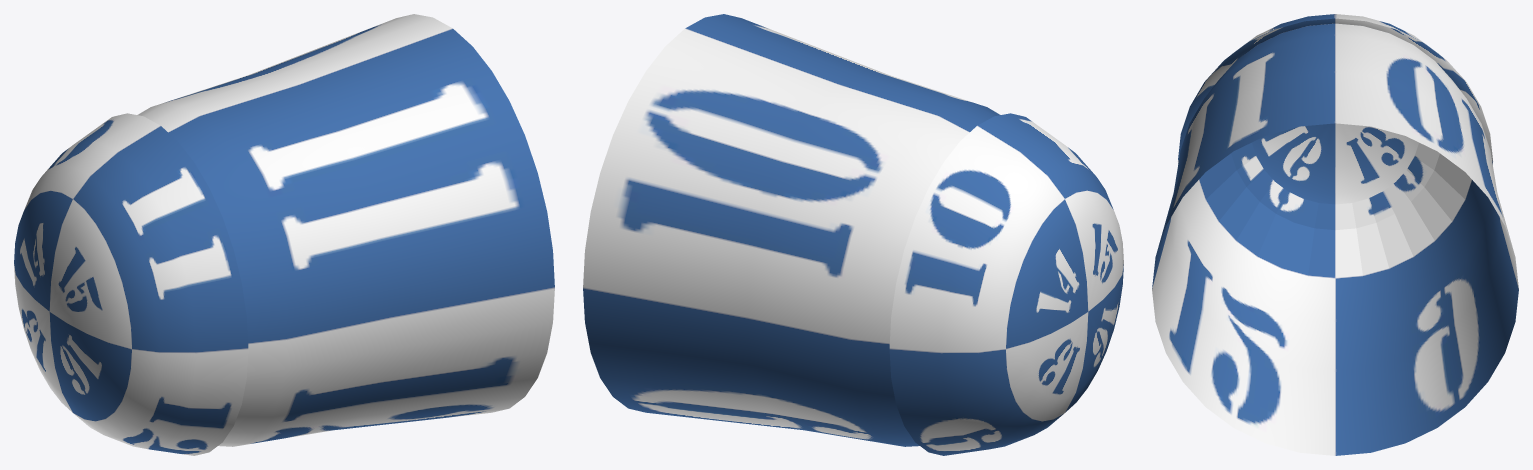
The model's file is Akaza_Wind2.fbx.
The picture shows the model from 3 angles, left to right: view 1: azimuth 30°, elevation 25°; view 2: azimuth 150°, elevation 25°; view 3: azimuth 270°, elevation 25°; orthographic projection. The views are drawn at different scales.
Parts seen in each view (by area): view 1: SM_e_Plc_P1012_Wind002; view 2: SM_e_Plc_P1012_Wind002; view 3: SM_e_Plc_P1012_Wind002.
Part boxes in pixels (x1,y1,x2,y2): SM_e_Plc_P1012_Wind002: [14, 14, 554, 455]; SM_e_Plc_P1012_Wind002: [583, 14, 1123, 455]; SM_e_Plc_P1012_Wind002: [1152, 14, 1518, 455].
Size of the model in its own units: 281 by 247 by 247.
